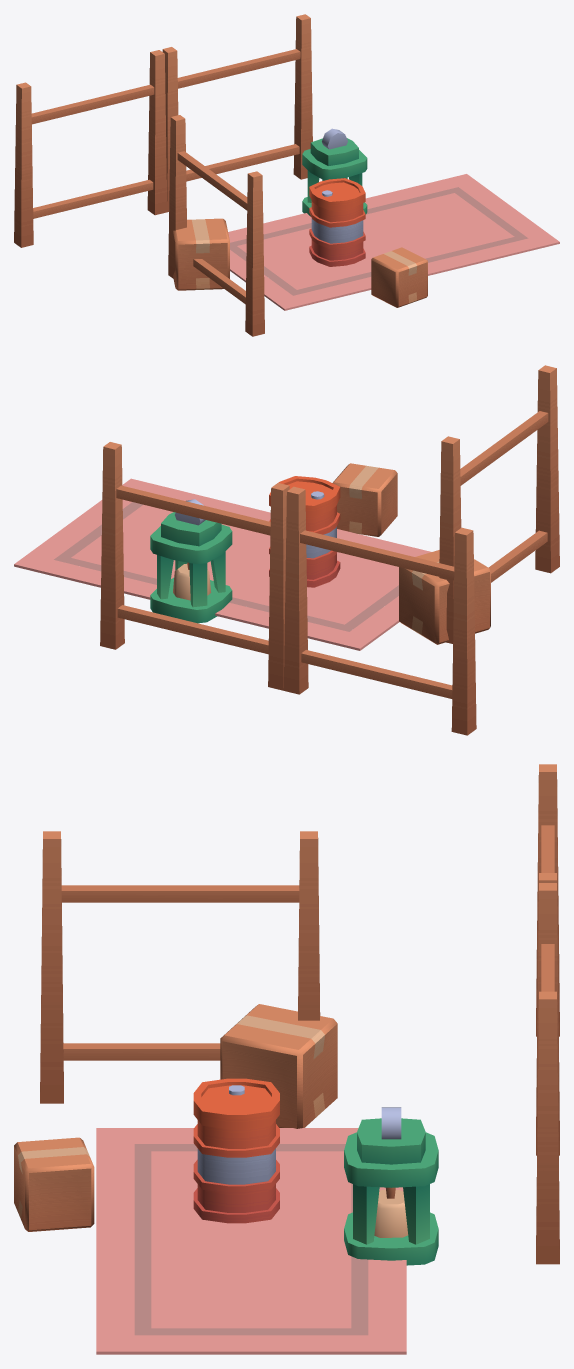
File: bld_shadow_course_2x2.glb
3 renders of one model, top to bottom at view 1: azimuth 30°, elevation 25°; view 2: azimuth 150°, elevation 25°; view 3: azimuth 270°, elevation 25°, orthographic. The views are drawn at different scales.
Visible parts, largest first — view 1: rugRectangle(Clone), fence, fence3, fence2, barrel, box, lantern-candle, box2; view 2: rugRectangle(Clone), fence, fence2, fence3, lantern-candle, box, box2, barrel; view 3: rugRectangle(Clone), fence3, lantern-candle, barrel, box, fence2, box2, fence.
Part boxes in pixels (x1,y1,x2,y2): rugRectangle(Clone): (228,174,559,310); fence: (14,50,167,247); fence3: (168,115,264,336); fence2: (162,14,312,212); barrel: (309,178,365,266); box: (173,218,229,290); lantern-candle: (302,128,367,216); box2: (371,247,427,307); rugRectangle(Clone): (14,478,431,650); fence: (283,486,476,735); fence2: (100,442,289,690); fence3: (439,365,559,643); lantern-candle: (150,499,232,623); box: (399,550,490,644); box2: (332,463,397,536); barrel: (269,476,340,587); rugRectangle(Clone): (96,1128,406,1354); fence3: (40,831,320,1103); lantern-candle: (344,1107,438,1265); barrel: (193,1078,279,1223); box: (220,1004,337,1128); fence2: (536,883,559,1264); box2: (14,1137,94,1231); fence: (536,764,559,1130).
Size of the model in its own units: 2.78 by 1.03 by 1.94.
Materials: 6 (4 with a texture image).
